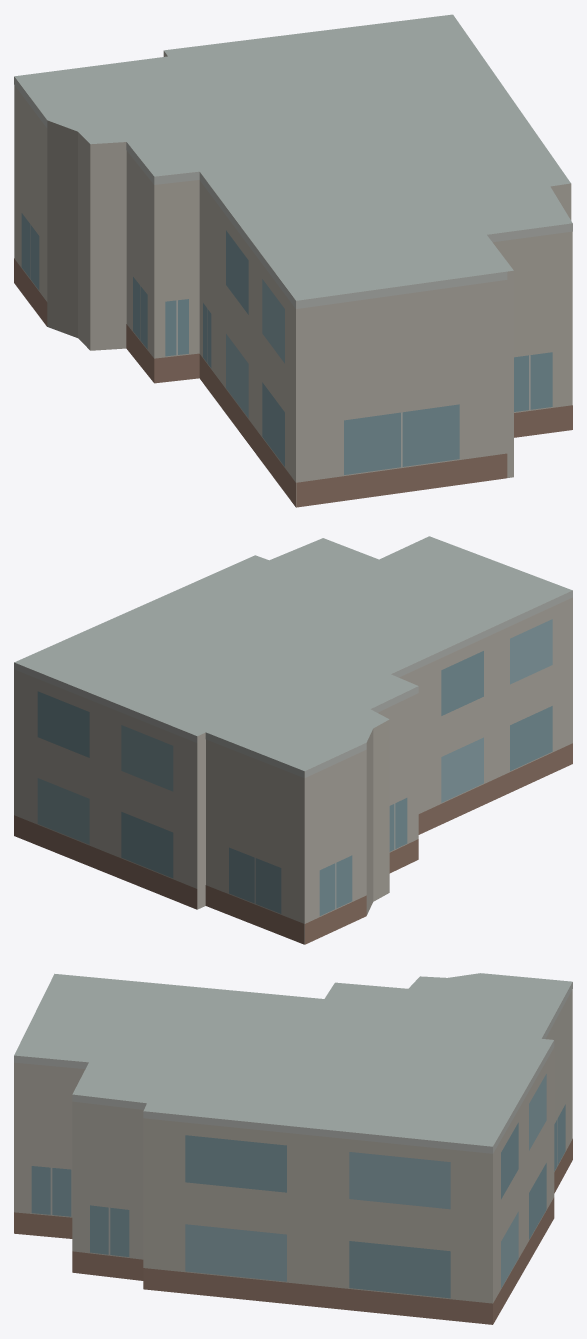
Rendered from survey-upis-33006401.glb.
3 views of the same model, one above another, from view 1: azimuth 30°, elevation 25°; view 2: azimuth 150°, elevation 25°; view 3: azimuth 270°, elevation 25° (orthographic). The views are drawn at different scales.
Parts seen in each view (by area): view 1: survey-upis-33006401.tmp; view 2: survey-upis-33006401.tmp; view 3: survey-upis-33006401.tmp.
Boxes of the visible parts, left/top/right/bottom form: survey-upis-33006401.tmp: left=14, top=14, right=572, bottom=507; survey-upis-33006401.tmp: left=14, top=536, right=572, bottom=944; survey-upis-33006401.tmp: left=14, top=973, right=572, bottom=1324.
Size of the model in its own units: 12.77 by 6.1 by 17.35.
